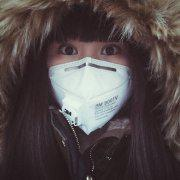OK: (45, 33, 136, 135)
